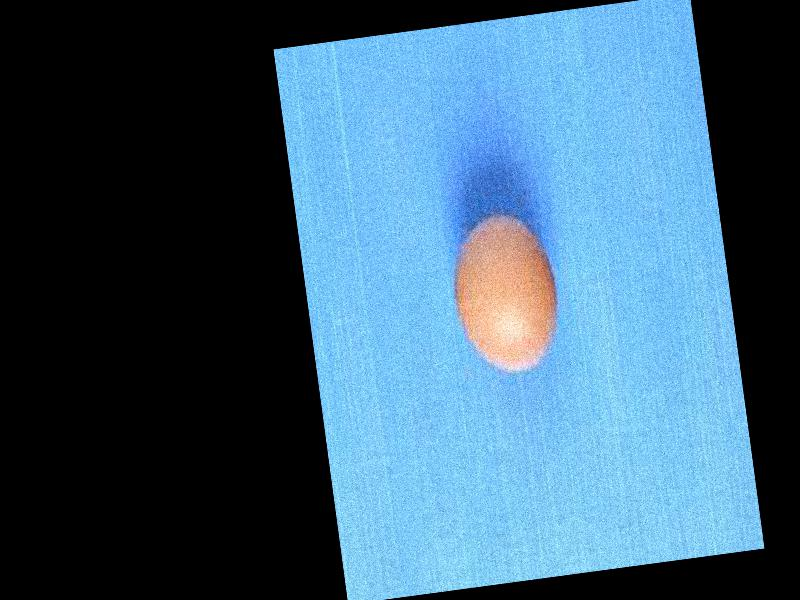Eggs: (445, 204, 565, 381)
